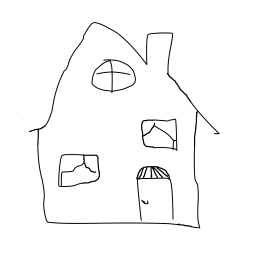chimney: (141, 27, 176, 81)
closed_window: (83, 55, 141, 96)
door: (127, 162, 183, 222)
open_window: (51, 145, 103, 193), (136, 109, 189, 155)
single_line_roof: (14, 19, 227, 135)
wall: (31, 108, 205, 231)
